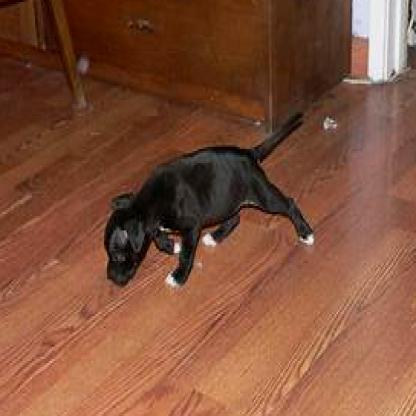dog: (104, 108, 314, 290)
